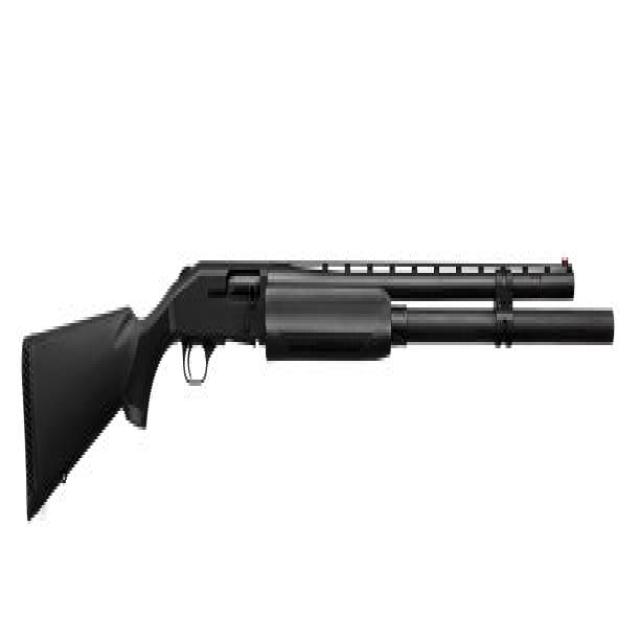rifle: (18, 229, 619, 533)
